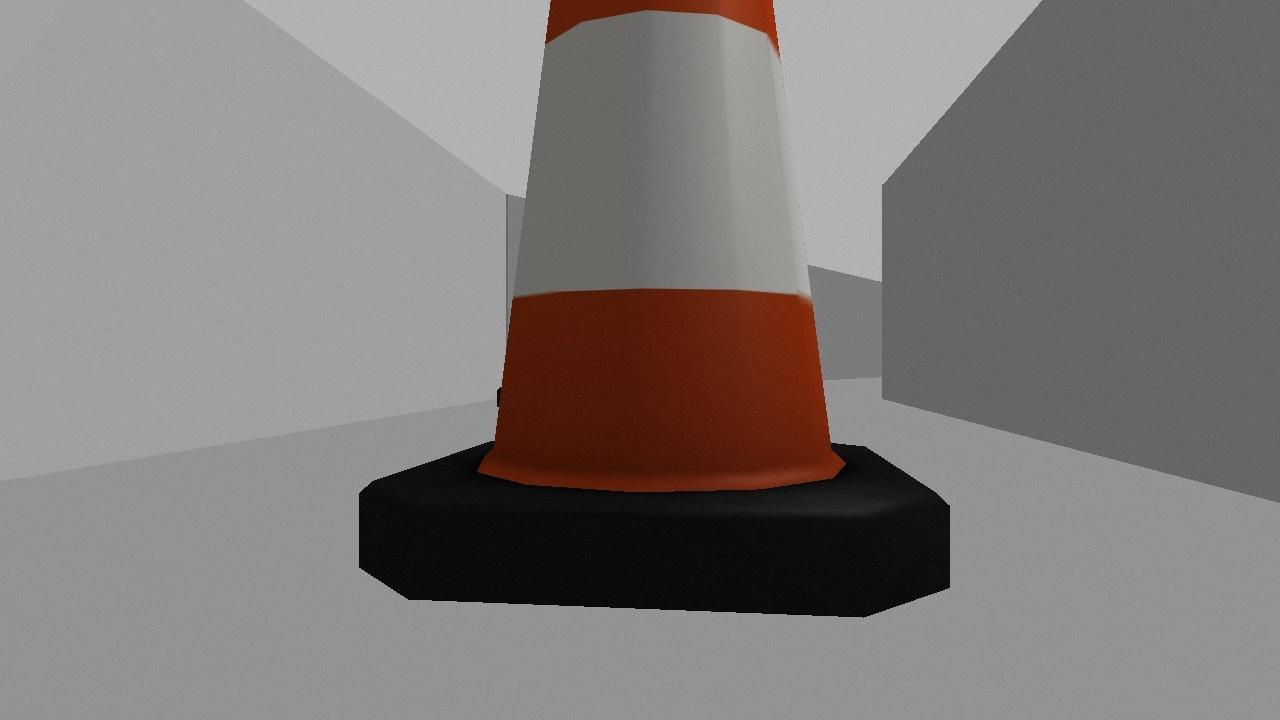cone_barrel: (356, 0, 952, 616)
